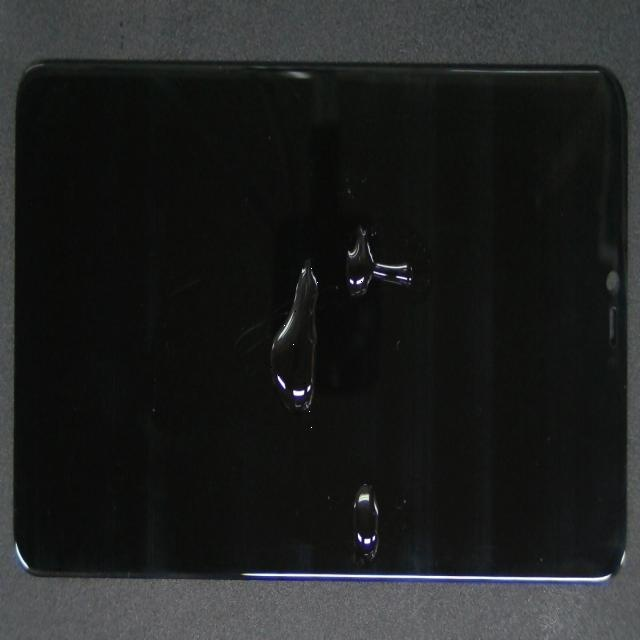oil: (194, 276, 579, 640), (219, 132, 617, 383), (172, 78, 435, 439)
